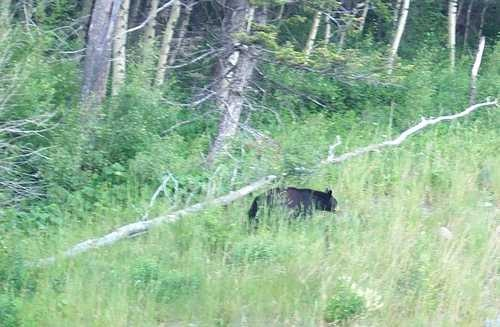bear: (228, 144, 357, 272)
